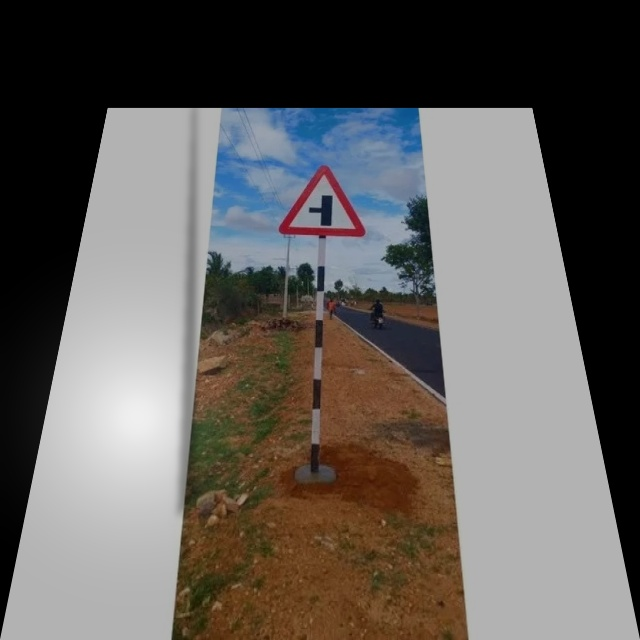Side_Road_Left: (275, 162, 368, 239)
